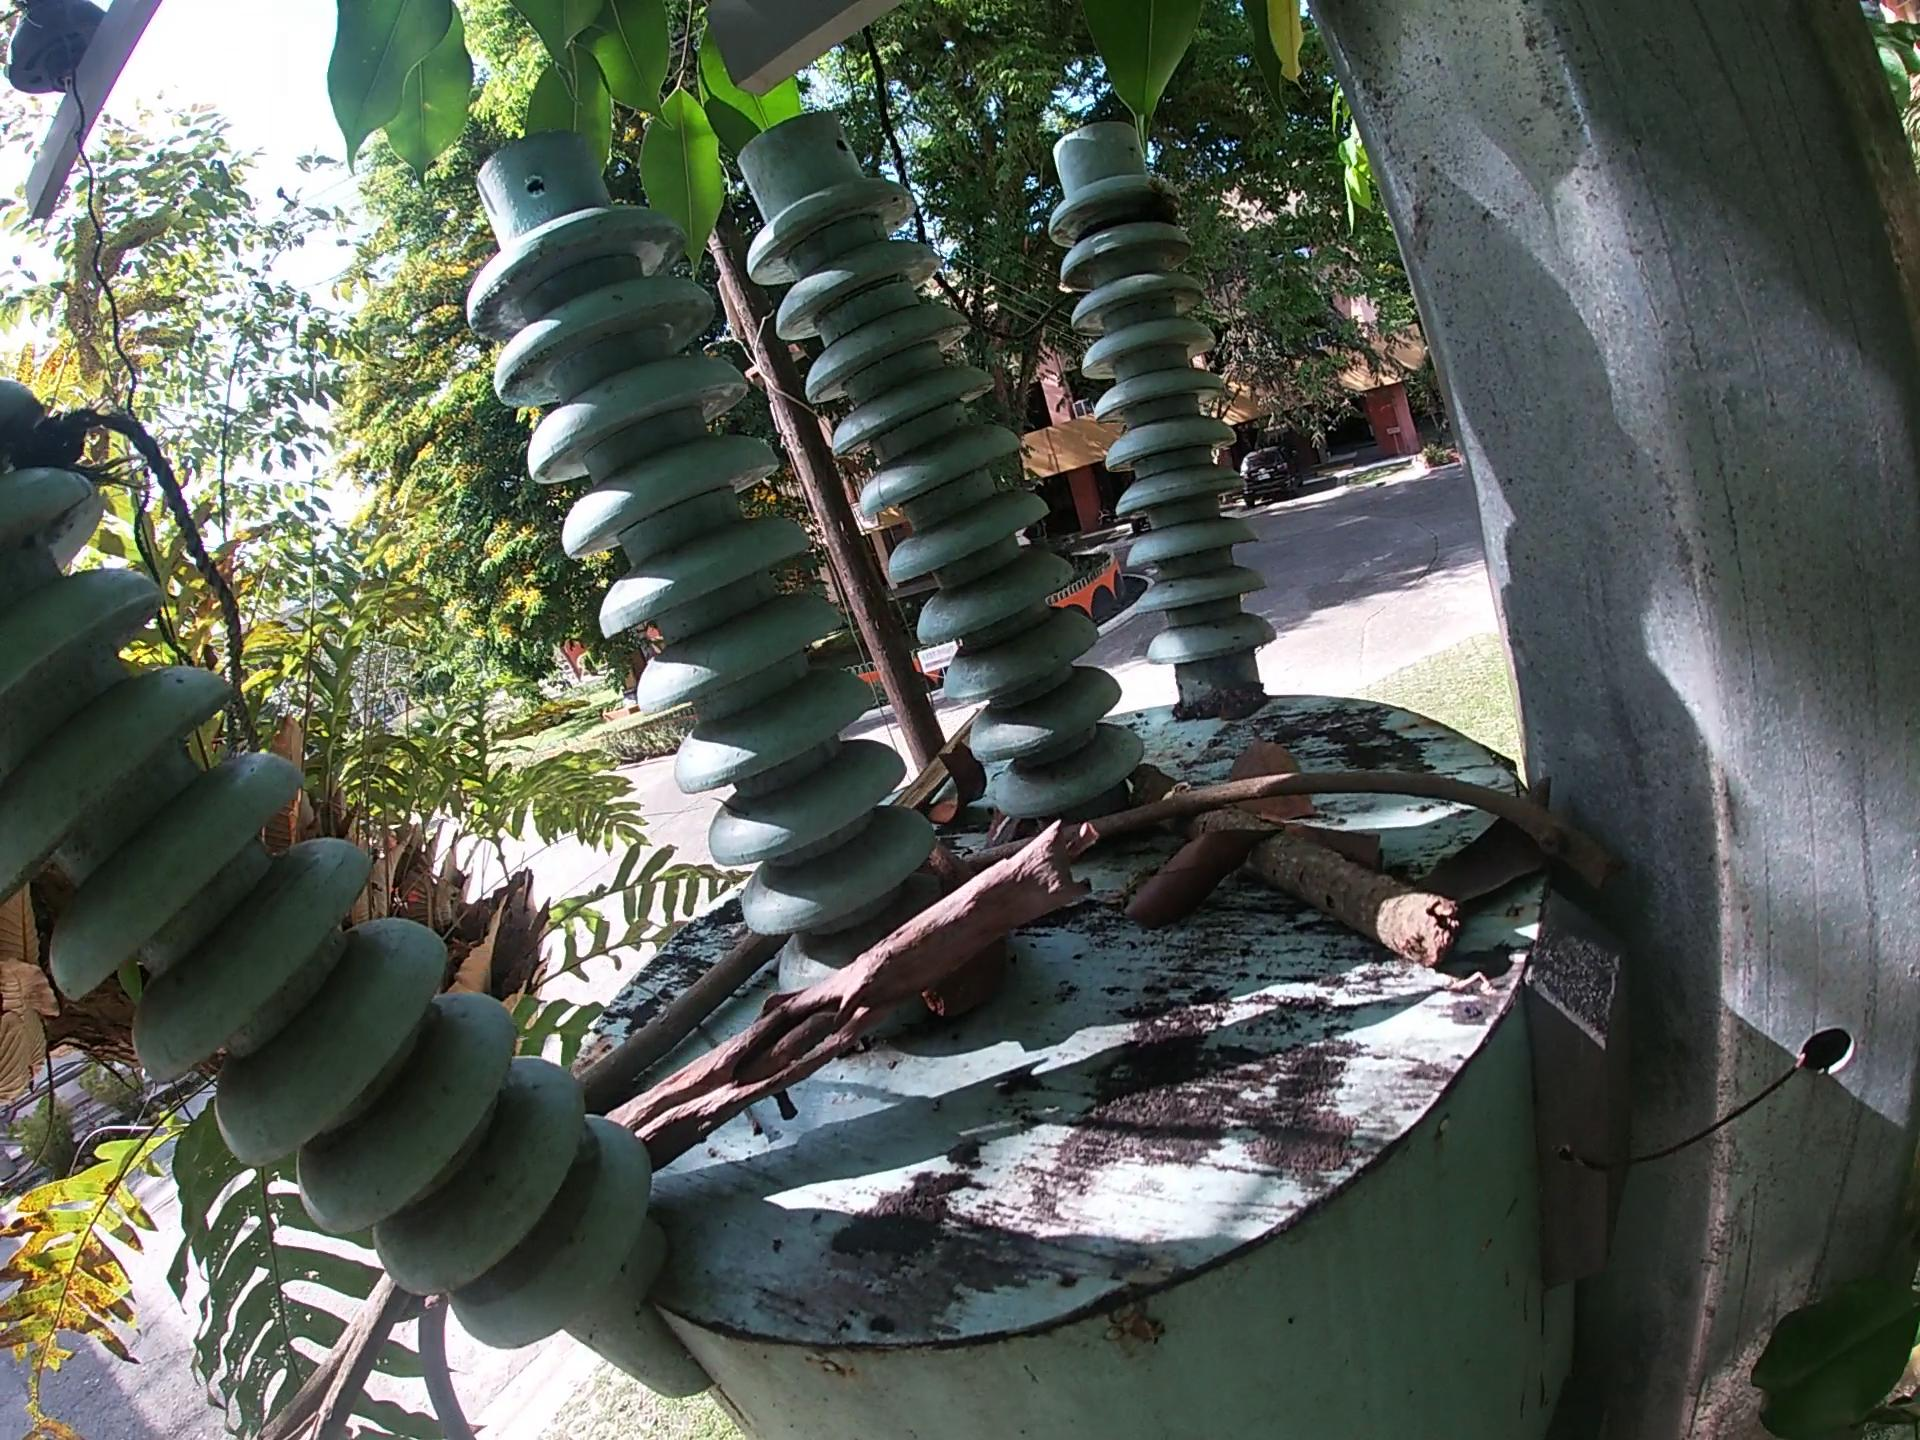leaf: (1414, 767, 1562, 908), (1125, 818, 1281, 939), (1225, 728, 1324, 821)
mahogany fruit: (906, 829, 1016, 1024), (919, 740, 989, 833)
tree branch: (602, 809, 1107, 1180), (968, 759, 1627, 898), (1120, 756, 1466, 980), (581, 921, 795, 1121), (254, 1269, 405, 1440)
